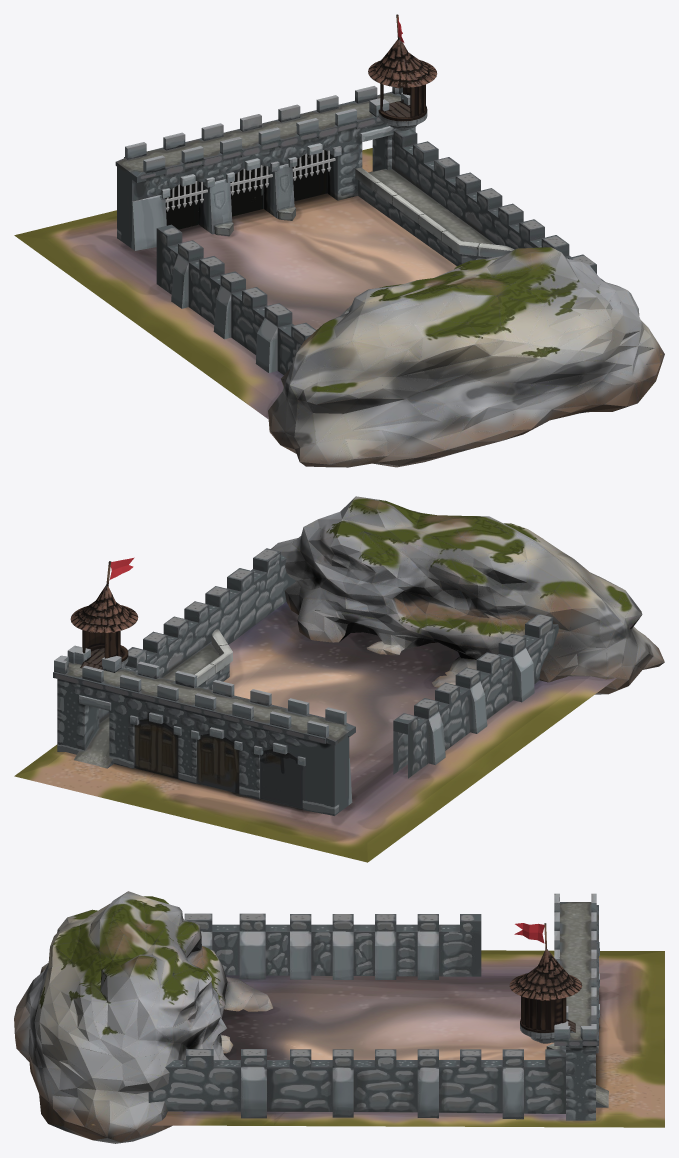
The model's file is shortbow-platform.fbx.
The picture shows the model from 3 angles, top to bottom: view 1: azimuth 30°, elevation 25°; view 2: azimuth 150°, elevation 25°; view 3: azimuth 270°, elevation 25°; orthographic projection. The views are drawn at different scales.
Visible parts, largest first — view 1: Plane.001; view 2: Plane.001; view 3: Plane.001.
Part boxes in pixels (x1,y1,x2,y2): Plane.001: (14,14,664,467); Plane.001: (14,496,664,862); Plane.001: (14,891,664,1143).
Bounding box in the file's own units: 2662 × 1424 × 3935.
6 materials, 4 textured.
